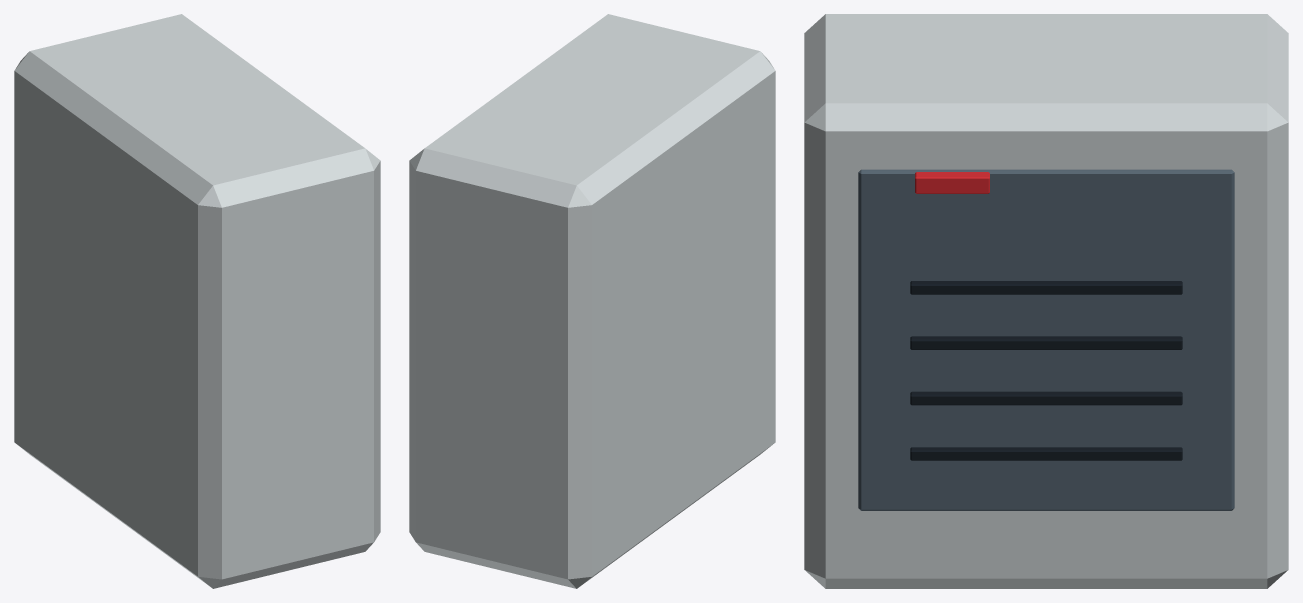
Rendered from cover_cabinet.obj.
3 views of the same model, side by side, from view 1: azimuth 30°, elevation 25°; view 2: azimuth 150°, elevation 25°; view 3: azimuth 270°, elevation 25° (orthographic). The views are drawn at different scales.
Visible parts, largest first — view 1: part_313; view 2: part_313; view 3: part_313, part_314, part_316, part_315, part_317, part_318, part_319.
Part boxes in pixels (x1,y1,x2,y2): part_313: (14,14,380,588); part_313: (409,14,775,588); part_313: (804,14,1288,588); part_314: (858,169,1234,510); part_316: (910,391,1182,405); part_315: (910,447,1182,460); part_317: (910,336,1182,349); part_318: (910,281,1182,294); part_319: (915,172,989,193).
Size of the model in its own units: 0.589 by 1.14 by 1.03.
